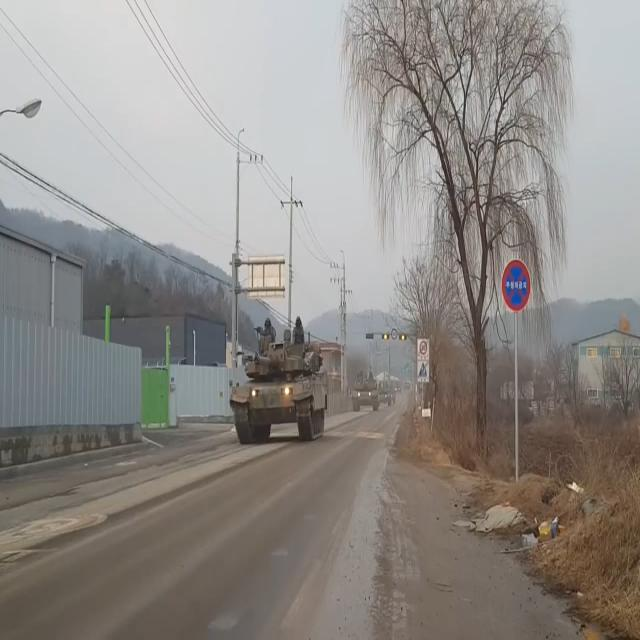korea tank: (228, 315, 326, 448)
